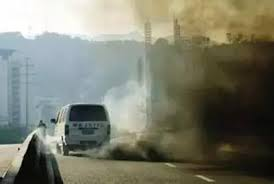smoke: (101, 140, 174, 162)
